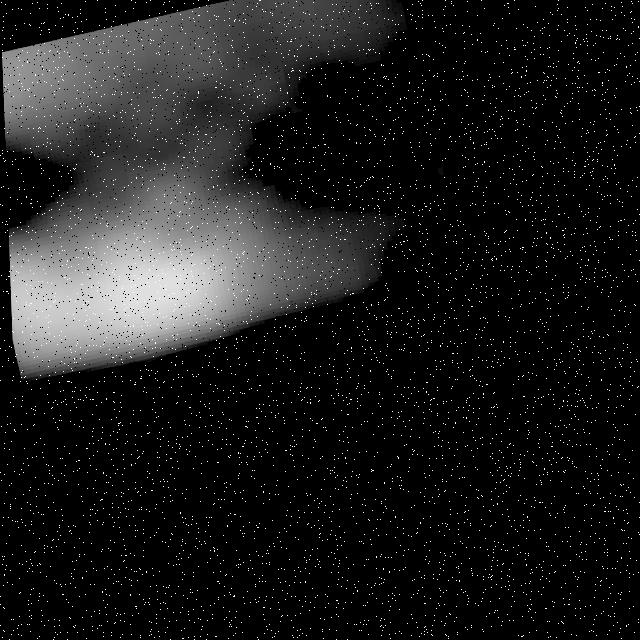person: (5, 125, 455, 380), (1, 1, 484, 185)
